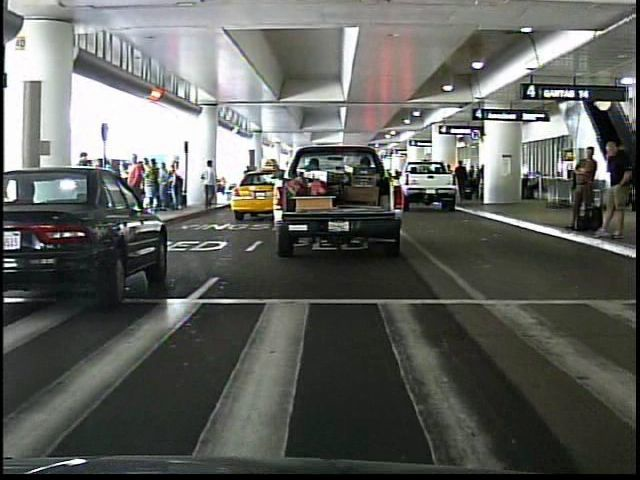person: (563, 135, 599, 240), (597, 136, 633, 240), (122, 153, 147, 222), (201, 160, 222, 212)
